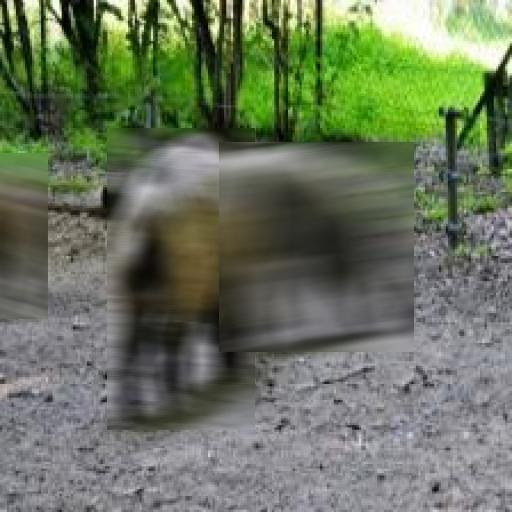Pig: (107, 128, 255, 430), (219, 142, 414, 352), (0, 153, 48, 319)
